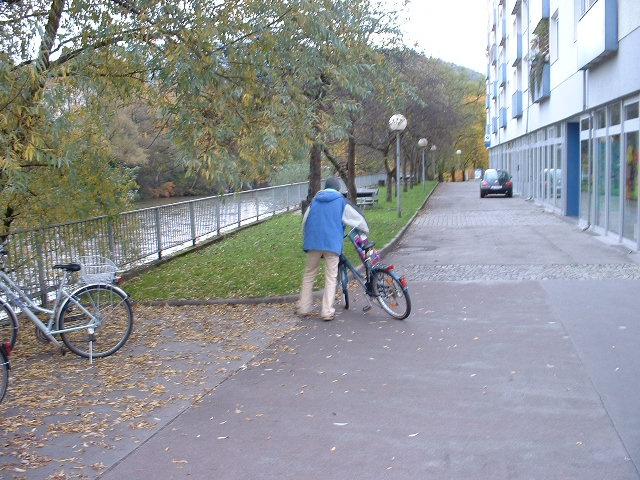person: (296, 173, 359, 327)
